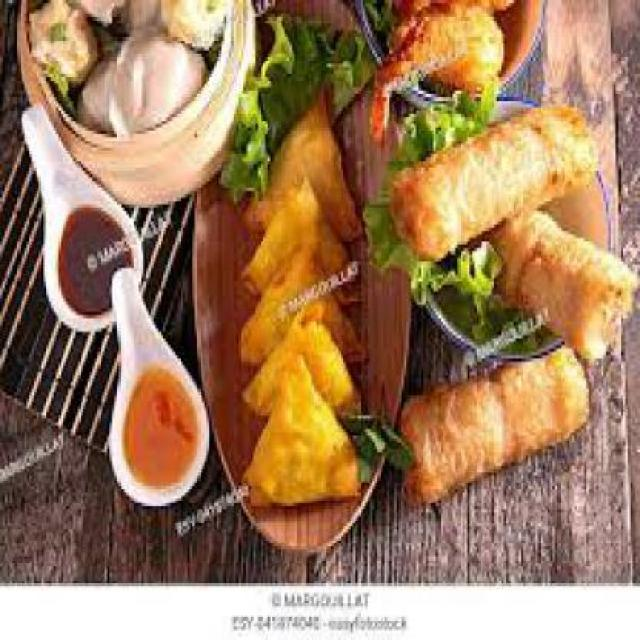samosa: (248, 74, 363, 509)
spring rolls: (390, 87, 636, 490)
